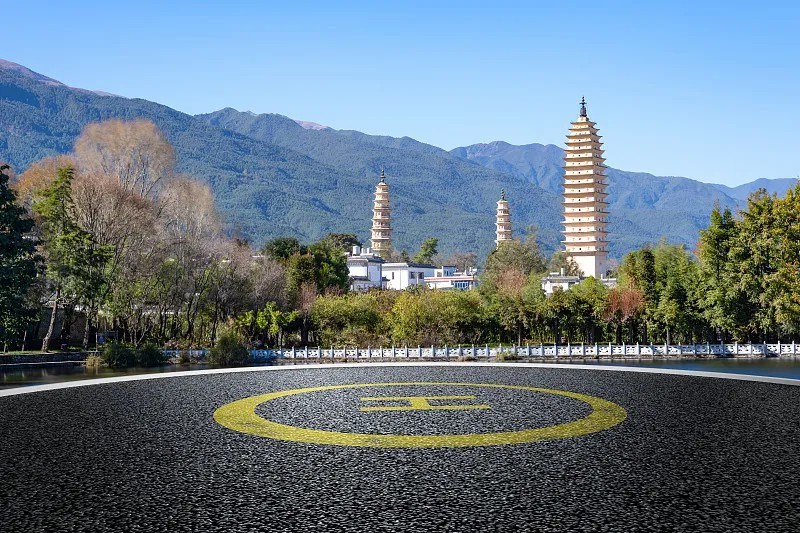ThreePagoda: (560, 97, 610, 279)
